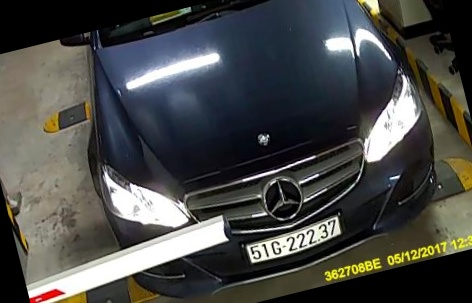plate: (236, 213, 353, 271)
